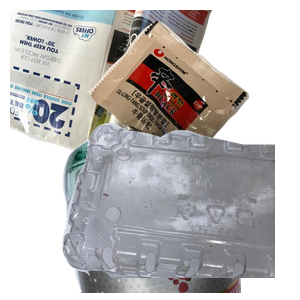glass: (60, 120, 300, 300)
paper: (10, 10, 215, 186)
plastic: (60, 120, 300, 300)
trash: (86, 18, 300, 194)
